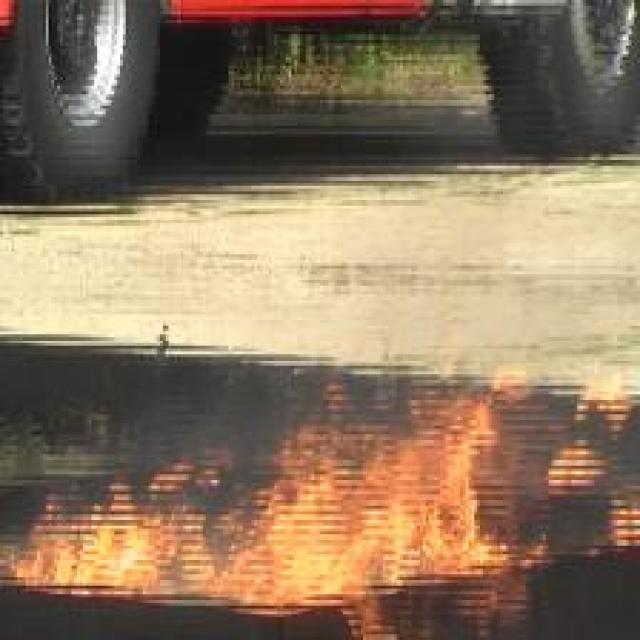Fire: (11, 365, 639, 640)
